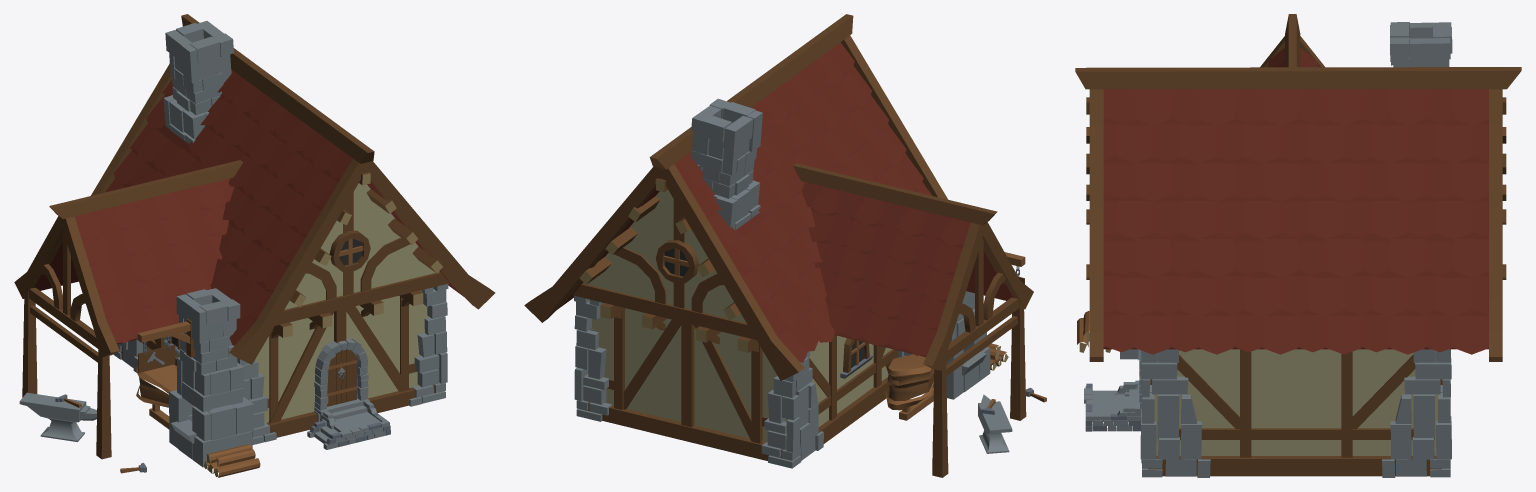
Rendered from Blacksmith.glb.
The picture shows the model from 3 angles, left to right: view 1: azimuth 30°, elevation 25°; view 2: azimuth 150°, elevation 25°; view 3: azimuth 270°, elevation 25°; orthographic projection. The views are drawn at different scales.
Visible parts, largest first — view 1: Blacksmith; view 2: Blacksmith; view 3: Blacksmith.
Part boxes in pixels (x1,y1,x2,y2): Blacksmith: [14, 14, 495, 477]; Blacksmith: [524, 14, 1046, 477]; Blacksmith: [1075, 14, 1521, 477].
Size of the model in its own units: 3.89 by 3 by 3.28.
